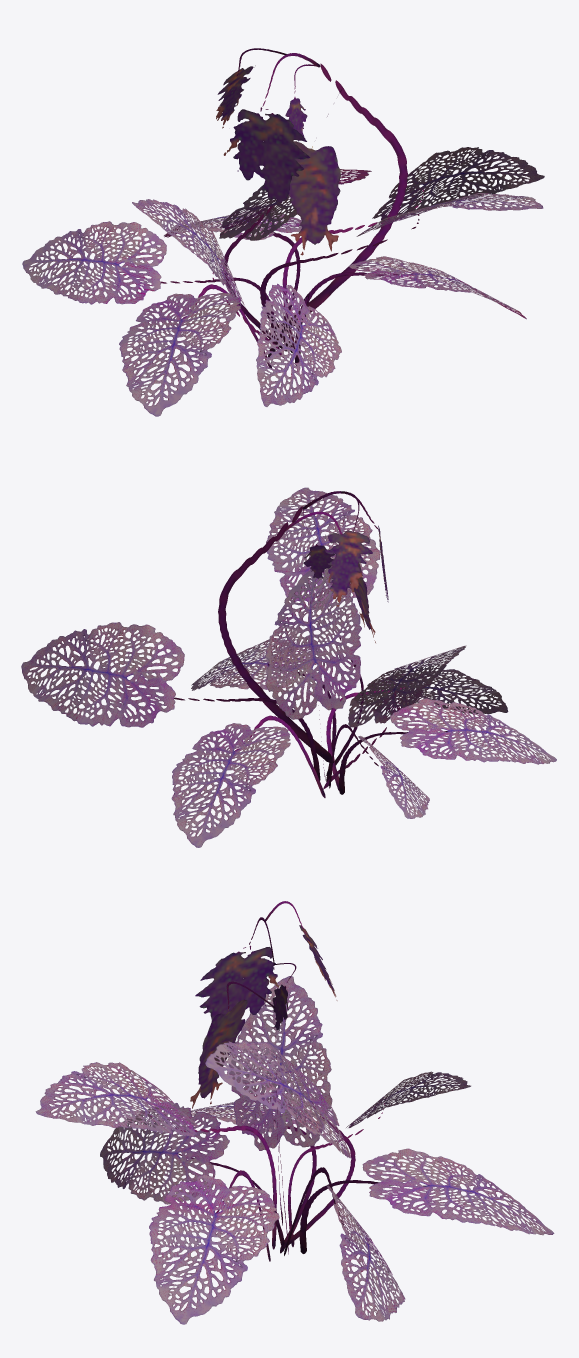
Rendered from Spin Reef C6.fbx.
The picture shows the model from 3 angles, top to bottom: view 1: azimuth 30°, elevation 25°; view 2: azimuth 150°, elevation 25°; view 3: azimuth 270°, elevation 25°; orthographic projection. The views are drawn at different scales.
Parts seen in each view (by area): view 1: Spin Reef C6; view 2: Spin Reef C6; view 3: Spin Reef C6.
Part boxes in pixels (box(x1,y1,x2,y2)): Spin Reef C6: box(22, 48, 544, 416); Spin Reef C6: box(21, 487, 556, 847); Spin Reef C6: box(35, 901, 554, 1324).
Size of the model in its own units: 220 by 149 by 196.
